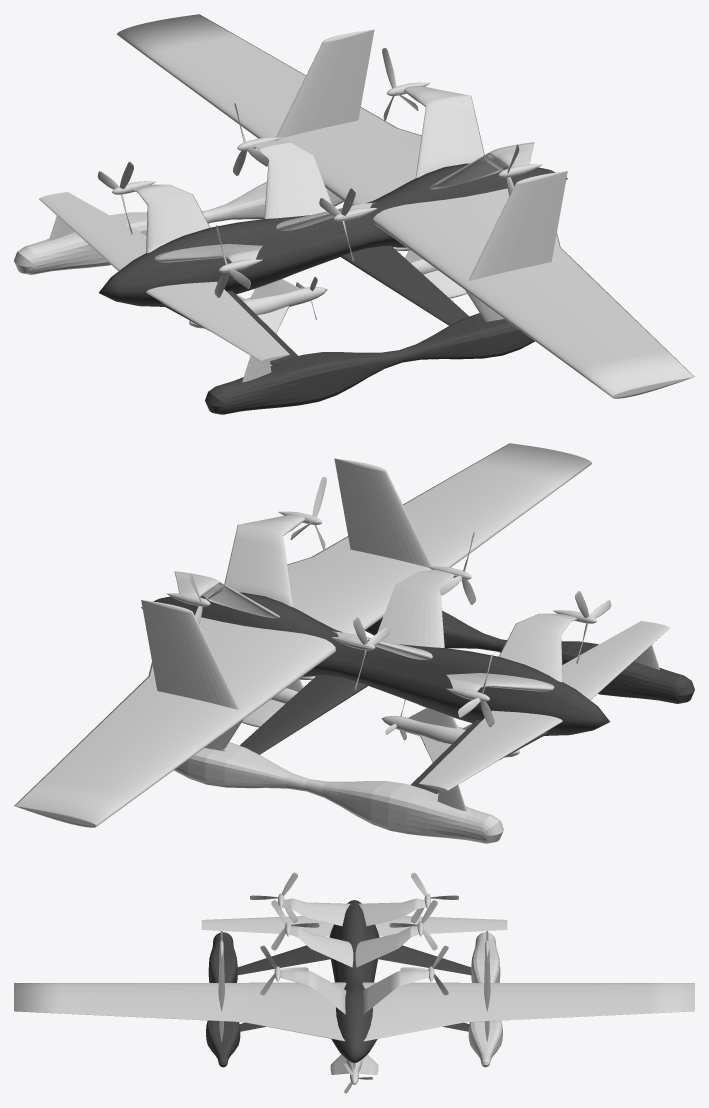
The model's file is Drone.glb.
3 views of the same model, one above another, from view 1: azimuth 30°, elevation 25°; view 2: azimuth 150°, elevation 25°; view 3: azimuth 270°, elevation 25° (orthographic). The views are drawn at different scales.
Visible parts, largest first — view 1: MainWIngs, Fuselage, DRONE.001, Canard, DRONE.032, DRONE.031, 2vert, DRONE.002, 1vertL, 3vert.001, DRONE.006, CHILD.001 (+7 smaller); view 2: MainWIngs, Fuselage, DRONE.002, Canard, DRONE.031, DRONE.032, 2vert, DRONE.001, 1vertR, 3vert.001, DRONE.006, CHILD.001 (+7 smaller); view 3: MainWIngs, Fuselage, Canard, 2vert, DRONE.005, DRONE.001, DRONE.002, 3vert.001, 1vertL, 1vertR, CHILD, 2propL (+7 smaller).
Boxes of the visible parts, x1,y1,x2,y2 form: MainWIngs: (117, 14, 694, 398); Fuselage: (99, 163, 567, 306); DRONE.001: (205, 313, 534, 414); Canard: (39, 192, 289, 362); DRONE.032: (465, 171, 567, 321); DRONE.031: (276, 29, 374, 138); 2vert: (254, 140, 376, 230); DRONE.002: (14, 181, 343, 274); 1vertL: (404, 86, 484, 178); 3vert.001: (132, 184, 262, 262); DRONE.006: (340, 245, 468, 325); CHILD.001: (189, 275, 327, 333); MainWIngs: (14, 443, 591, 827); Fuselage: (141, 592, 609, 735); DRONE.002: (174, 742, 503, 843); Canard: (419, 621, 669, 791); DRONE.031: (141, 600, 243, 750); DRONE.032: (334, 458, 432, 567); 2vert: (332, 569, 454, 659); DRONE.001: (365, 610, 694, 703); 1vertR: (224, 515, 304, 607); 3vert.001: (446, 613, 576, 691); DRONE.006: (240, 674, 368, 754); CHILD.001: (381, 699, 519, 762); MainWIngs: (14, 982, 694, 1041); Fuselage: (329, 900, 379, 1062); Canard: (201, 916, 507, 936); 2vert: (289, 926, 419, 967); DRONE.005: (237, 945, 471, 975); DRONE.001: (206, 932, 240, 1067); DRONE.002: (468, 932, 502, 1067); 3vert.001: (283, 898, 425, 926); 1vertL: (362, 970, 428, 1014); 1vertR: (280, 970, 346, 1014); CHILD: (330, 1054, 378, 1093); 2propL: (389, 900, 437, 950).
Size of the model in its own units: 6 by 2.27 by 10.97.
2 materials, 1 textured.
